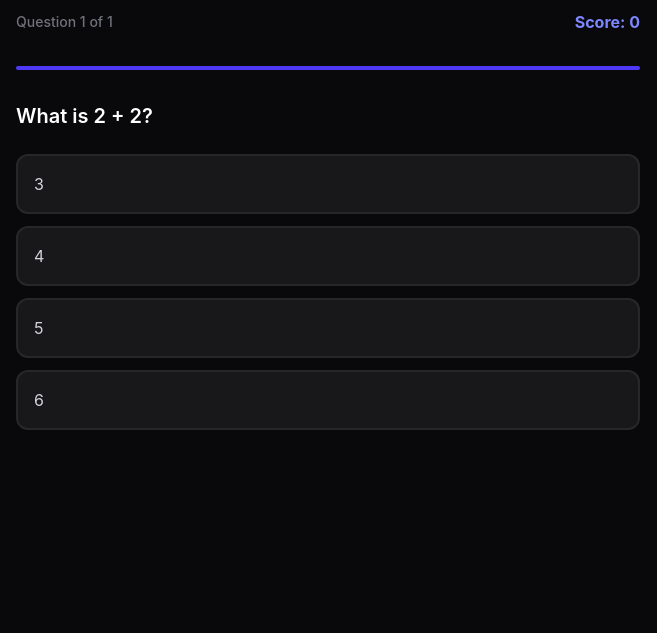
Test: QuizView › submits quiz score to backend and surfaces backend result
This screenshot has width=657, height=633.
Click the button "4": x=39, y=256 x1=16 y1=226 x2=640 y2=286
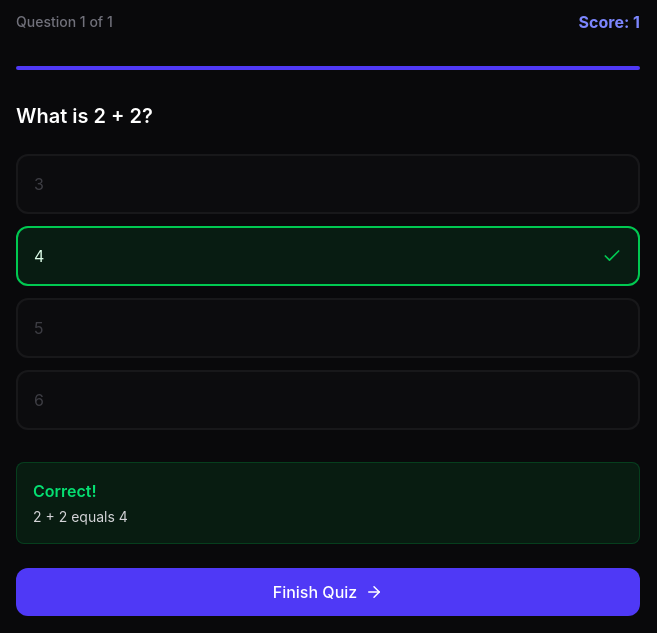
Click the button "Finish Quiz": x=328, y=592 x1=16 y1=568 x2=640 y2=616
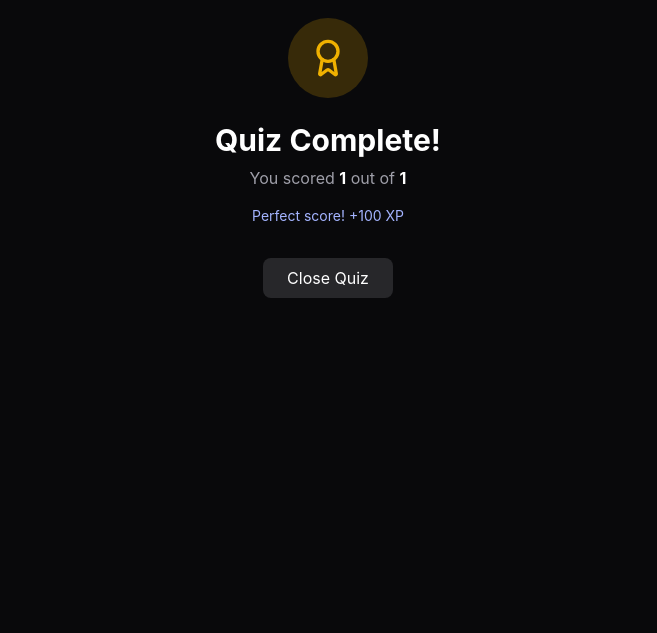
Expected: the heading "Quiz Complete!" is shown, x1=215 y1=122 x2=441 y2=158
Expected: the text "Perfect score! +100 XP" is shown, x1=252 y1=206 x2=404 y2=226
